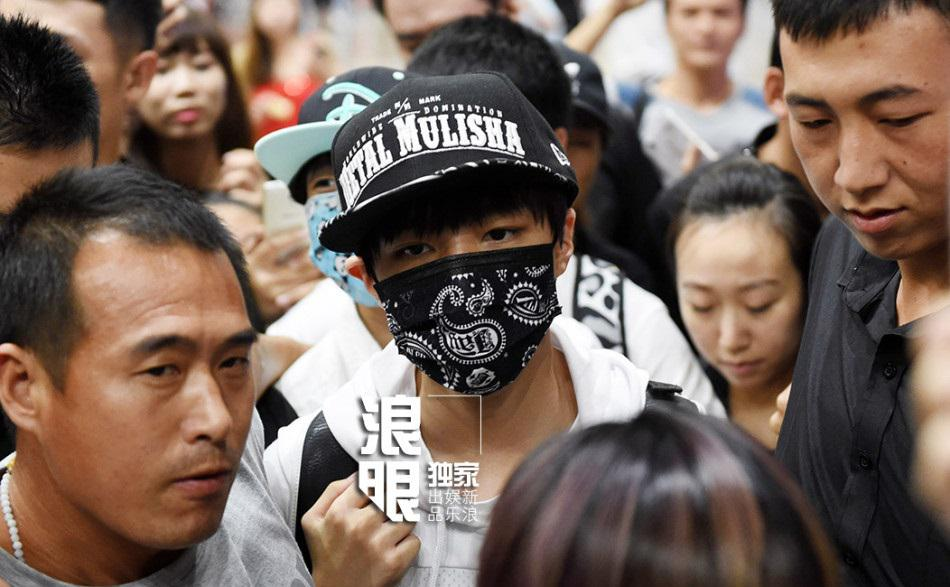NONE: (78, 302, 255, 522), (783, 78, 950, 246), (674, 238, 808, 381), (137, 41, 231, 135), (672, 1, 745, 74)
OK: (377, 183, 554, 384), (304, 154, 426, 298)
